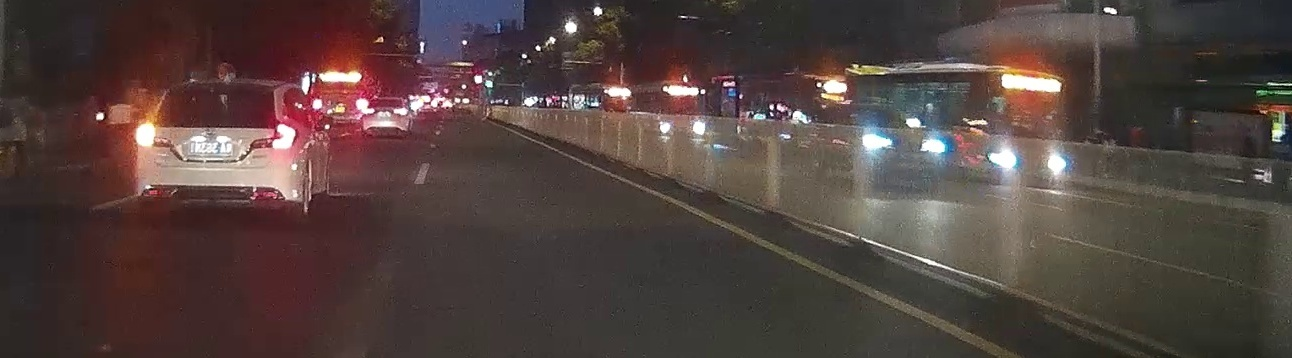L_light: (135, 134, 174, 148), (363, 108, 375, 114)
R_light: (251, 136, 284, 148), (394, 108, 407, 115)
T_light: (219, 83, 234, 88), (386, 99, 393, 102)
night-no: (134, 76, 298, 228), (363, 96, 409, 137)
